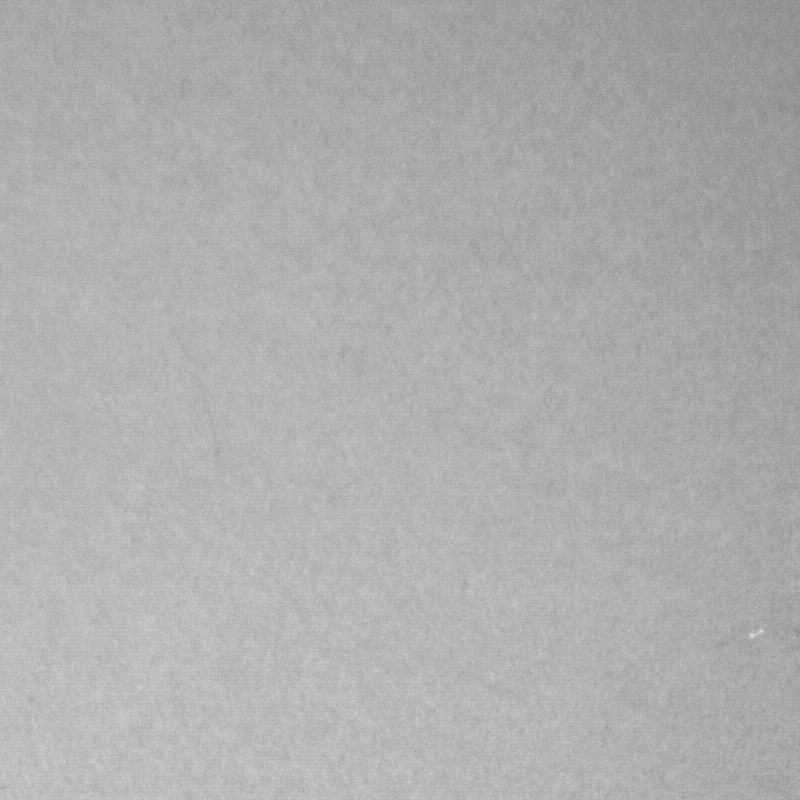defect: (183, 371, 229, 488), (742, 625, 776, 642)
